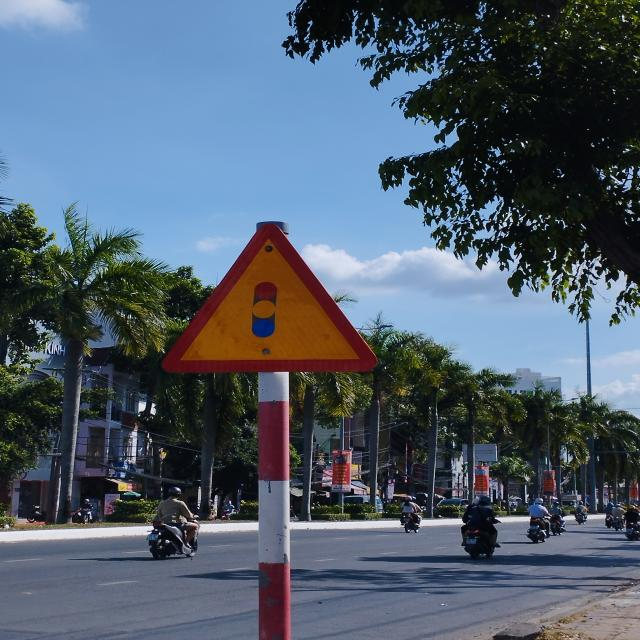Duong_Co_Go_Giam_Toc: (160, 222, 379, 373)
